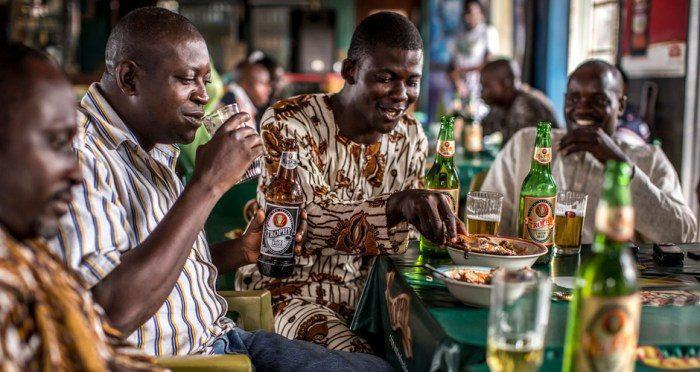Drunk: (139, 32, 212, 146), (360, 39, 425, 134), (565, 69, 620, 144)
